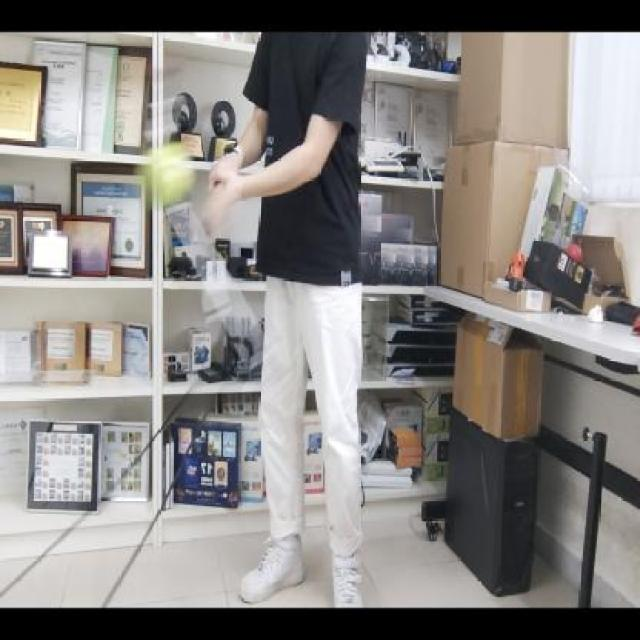baseball: (136, 144, 198, 208)
